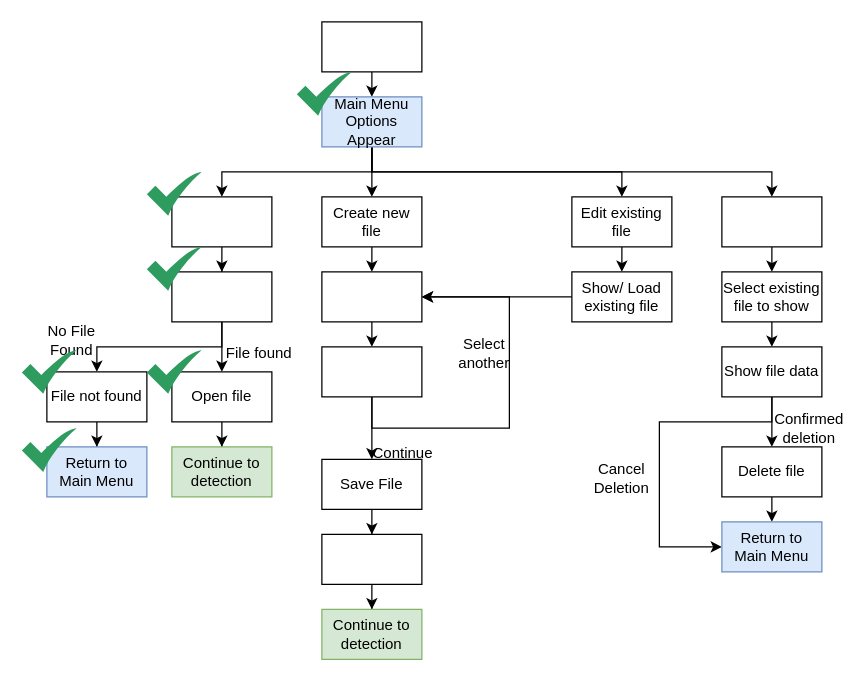
The diagram is 868 pixels wide and 681 high, and some of its shapes have lost their labels. Each missing label, with the centre of its shape:
Check for saved reps file: [221,296]
Delete existing file: [771,221]
Load in this new file: [371,558]
Load saved file: [221,221]
program loads: [371,46]
Select exercise and enter rep/sets: [371,371]
Show list of exercises to select from: [371,296]
